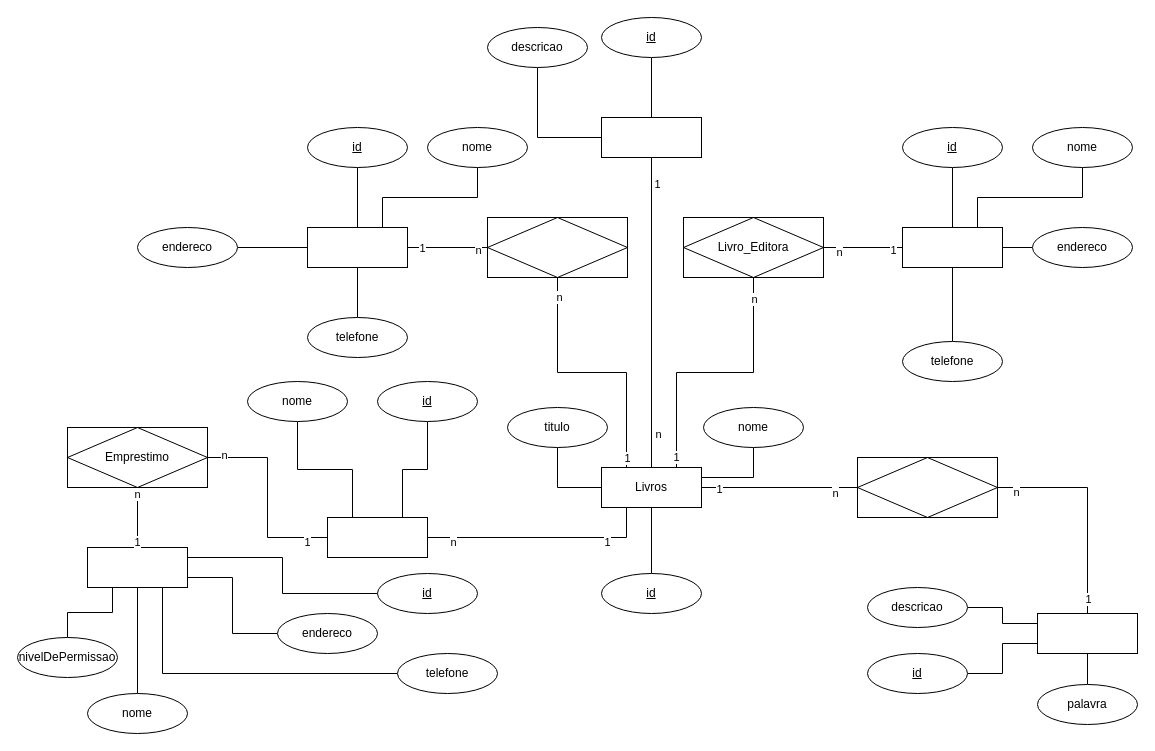
This 1155x751 diagram has some shape labels left out. The box of each missing label's shape, as (x1, y1, x2, y2) in pixels:
Area: (600, 116, 702, 158)
Autores: (306, 226, 408, 268)
Editoras: (902, 226, 1002, 268)
Exemplar: (326, 516, 428, 558)
Livro_Autor: (486, 216, 628, 278)
Livro_Palavras: (856, 456, 998, 518)
PalavrasChave: (1036, 612, 1138, 654)
Usuario: (86, 546, 188, 588)
